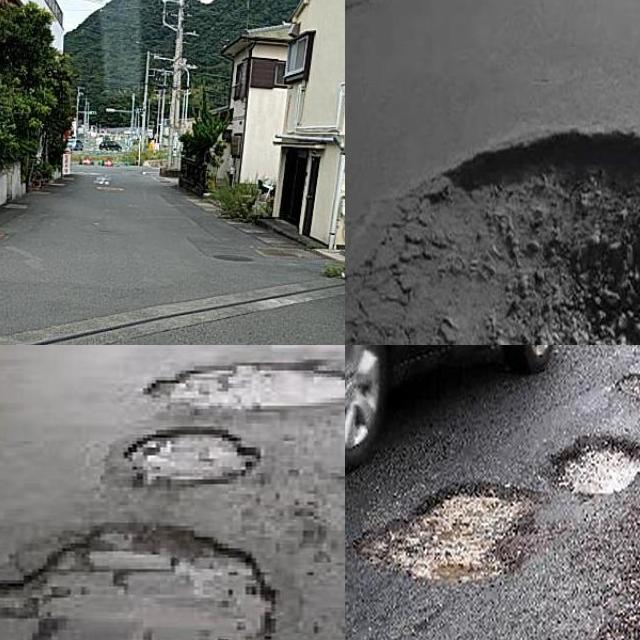Lubang: (386, 122, 640, 345), (0, 526, 271, 640), (366, 483, 544, 587), (137, 366, 345, 411), (122, 426, 262, 490), (549, 438, 640, 493)
Melintang: (0, 268, 345, 345)
